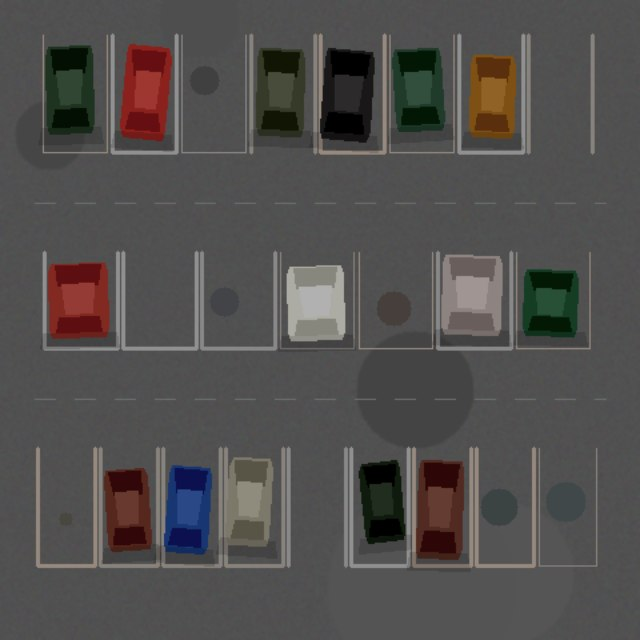space-empty: (181, 35, 245, 152), (528, 35, 592, 152), (201, 252, 275, 348), (123, 252, 196, 348), (359, 252, 432, 348), (37, 448, 95, 565), (288, 448, 345, 565), (476, 448, 533, 565), (539, 448, 596, 565)
space-occupied: (43, 35, 107, 152), (112, 35, 176, 152), (251, 35, 315, 152), (320, 35, 384, 152), (389, 35, 453, 152), (459, 35, 523, 152), (437, 252, 511, 348), (44, 252, 117, 348), (280, 252, 353, 348), (516, 252, 589, 348), (225, 448, 283, 565), (413, 448, 471, 565), (100, 448, 157, 565), (163, 448, 220, 565), (351, 448, 408, 565)
